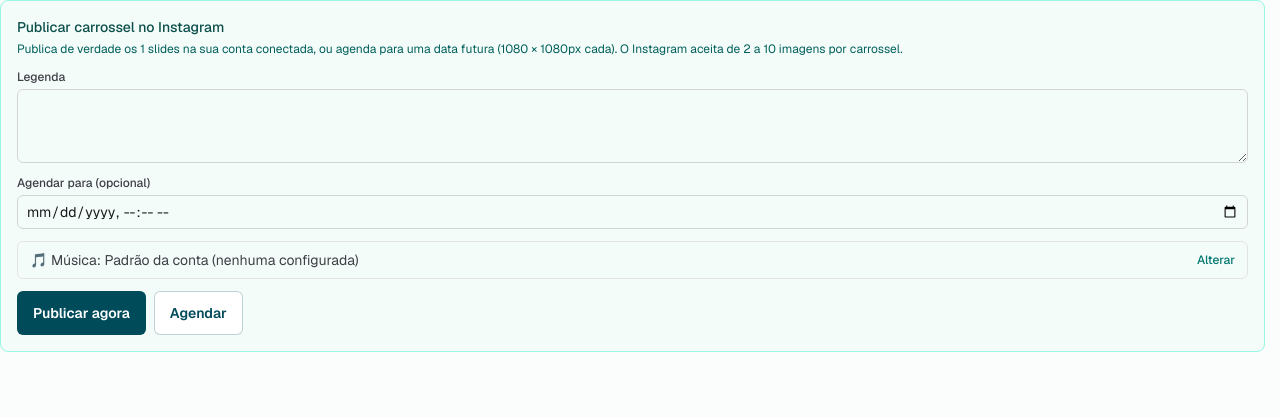
it: CarouselPublishPanel › mostra um erro e não gera nenhum slide com menos de 2 slides
What coordinates should you click on to do the following:
click the button "Publicar agora"
I would click on:
 (81, 313)
Its box is [17, 291, 146, 335].
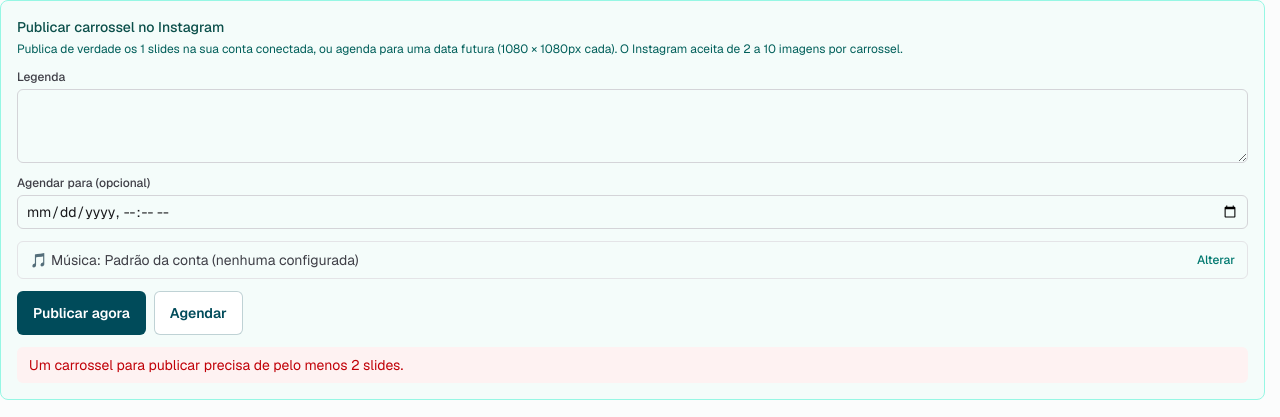
expect the message shows "pelo menos 2 slides": met, box [29, 356, 403, 374]
